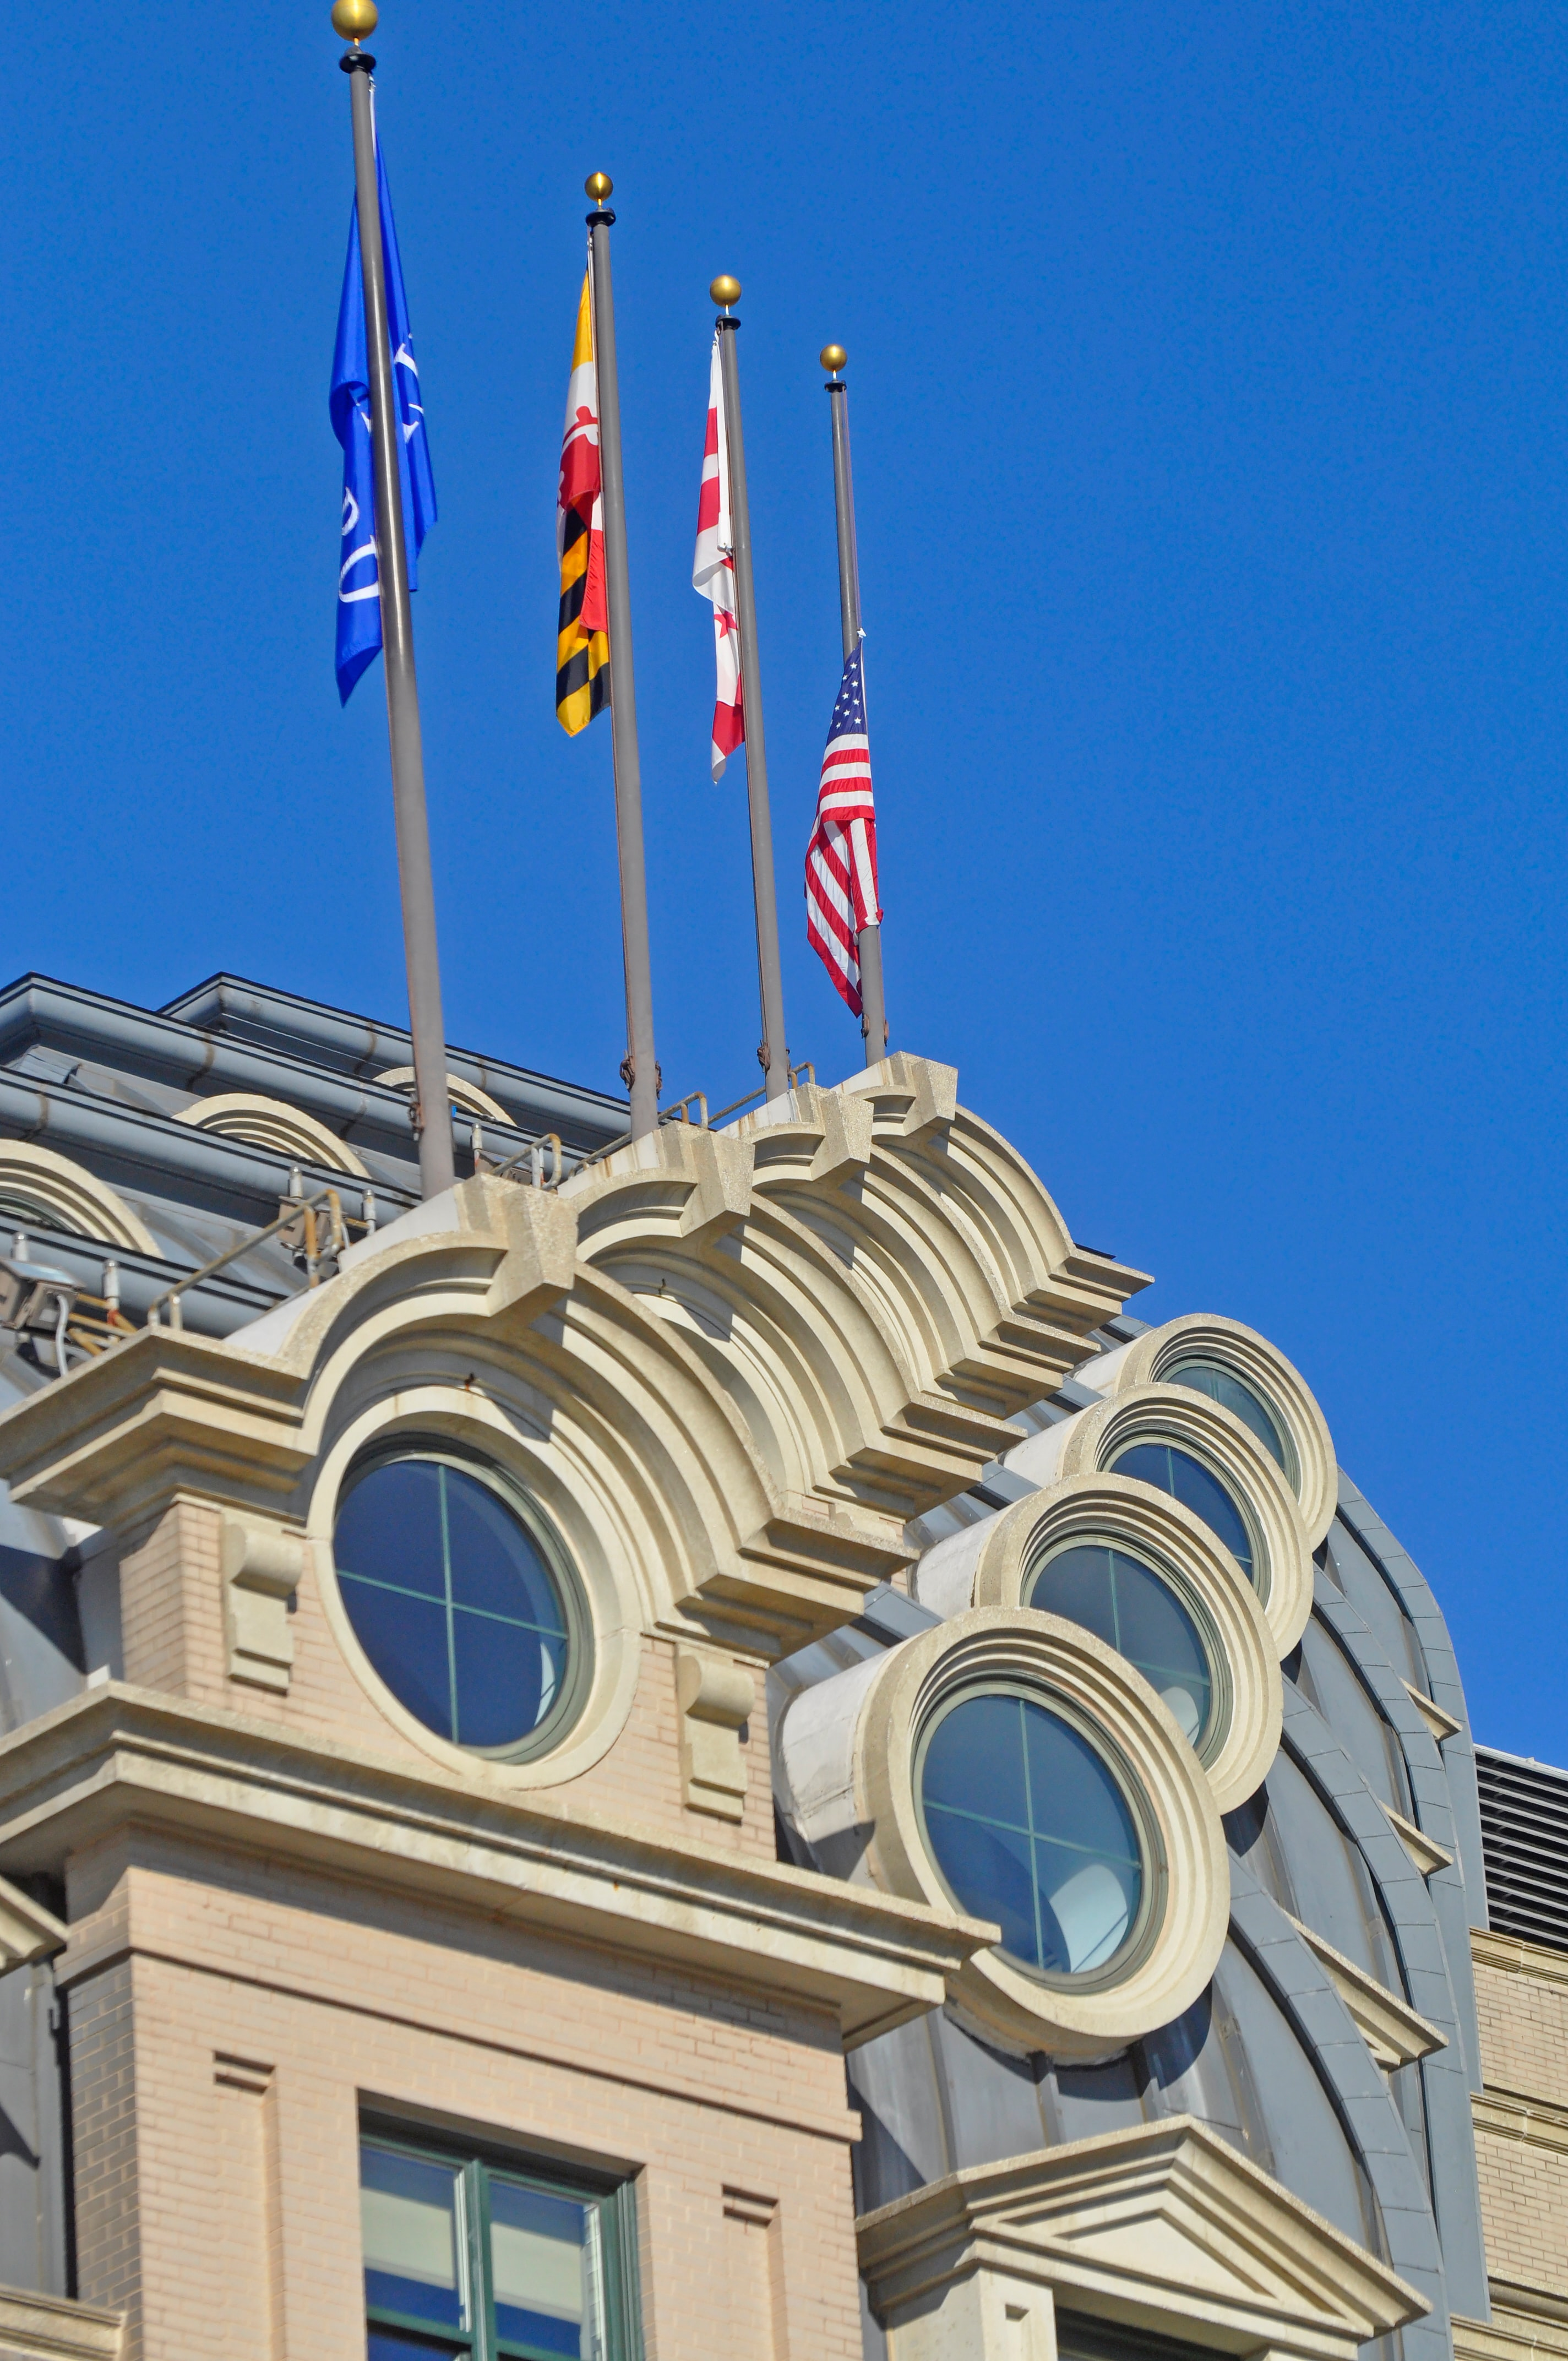Flag: (308, 142, 448, 707), (679, 319, 779, 779), (551, 235, 637, 733), (821, 623, 891, 1029)
